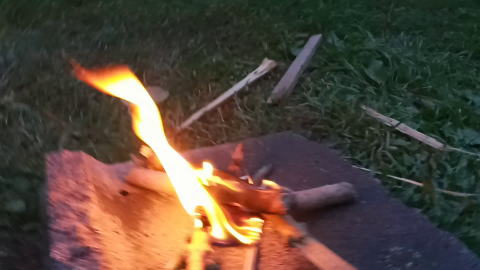fire: (66, 62, 258, 232)
